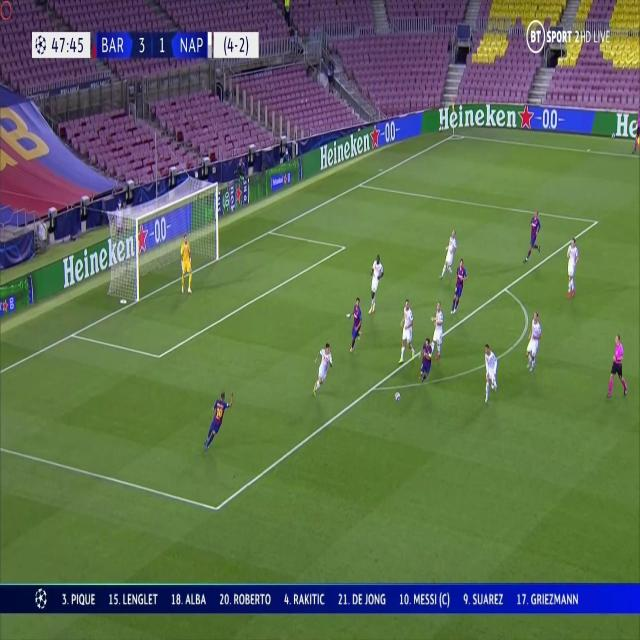ball: (394, 388, 401, 404)
player: (204, 390, 234, 450), (606, 331, 628, 400), (311, 342, 334, 395), (398, 297, 416, 363), (344, 296, 364, 355), (523, 208, 543, 264), (482, 340, 500, 401), (367, 253, 385, 314), (526, 309, 543, 371), (439, 228, 458, 281), (178, 231, 193, 295), (565, 235, 580, 298), (430, 300, 446, 357), (452, 258, 468, 314), (418, 338, 433, 386), (630, 110, 639, 154)
